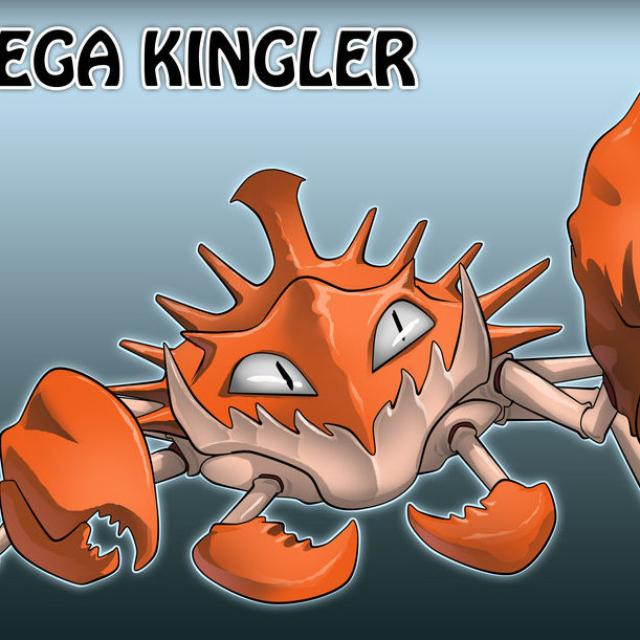Kingler: (0, 147, 640, 607)
